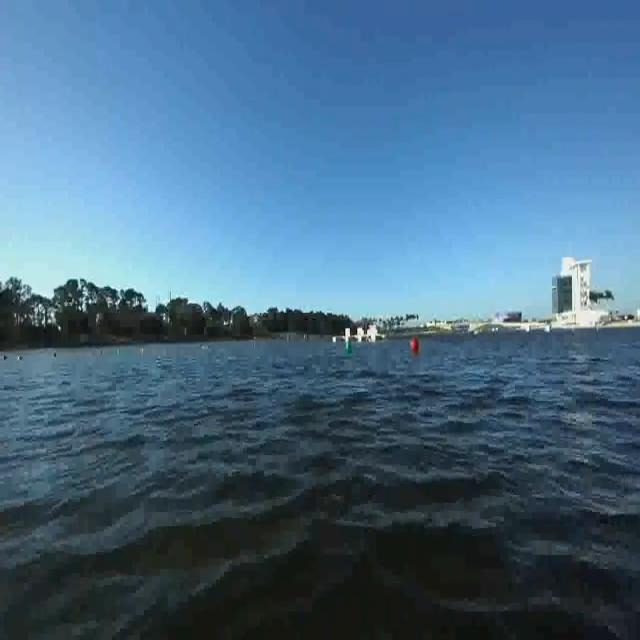green-buoy: (343, 334, 353, 356)
red-buoy: (412, 338, 419, 354)
